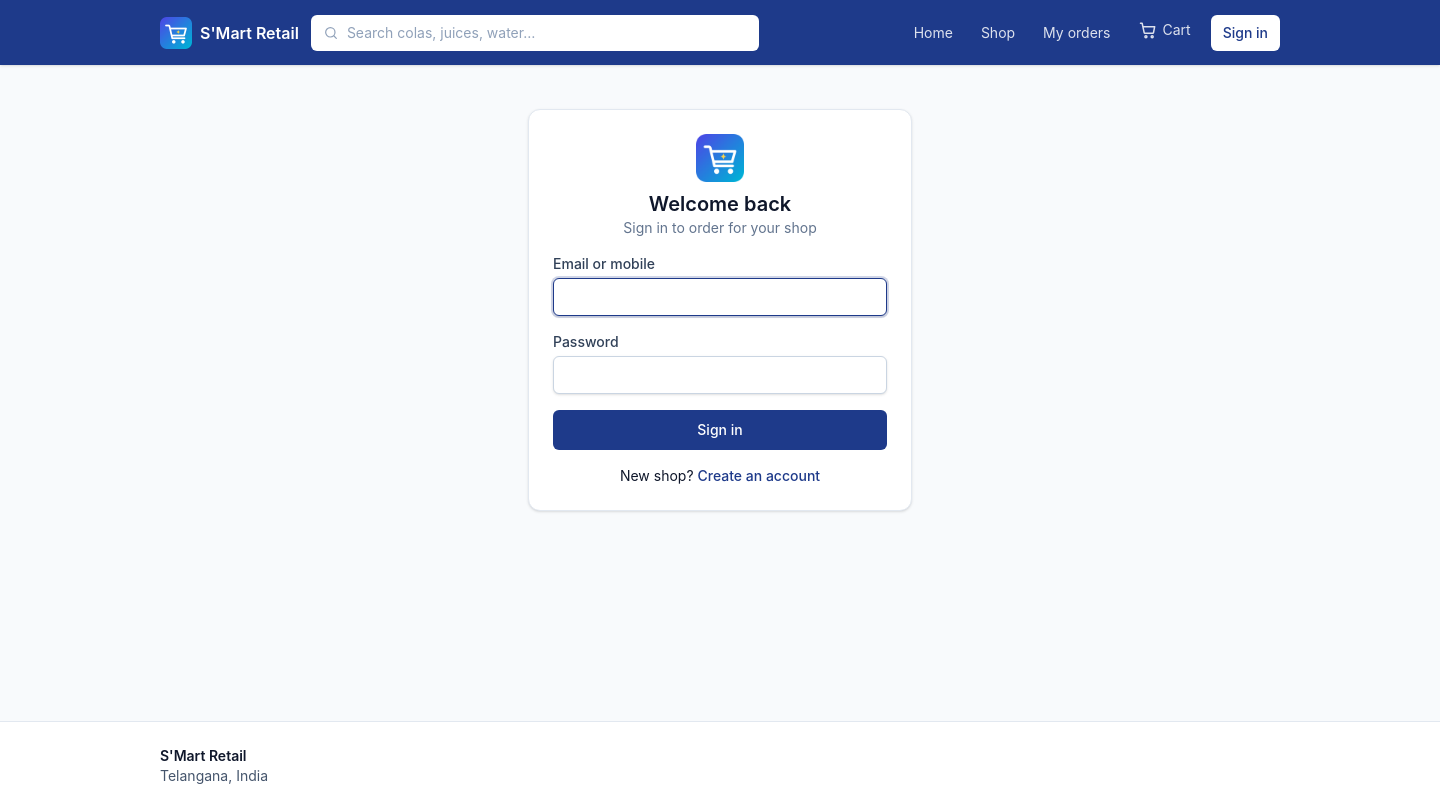
Scenario: shop profile › shows the delivery route and next delivery day on the profile
The image size is (1440, 810).
In the field labelled "Email or mobile": [720, 297] box [553,278,887,316], type "9876543210"
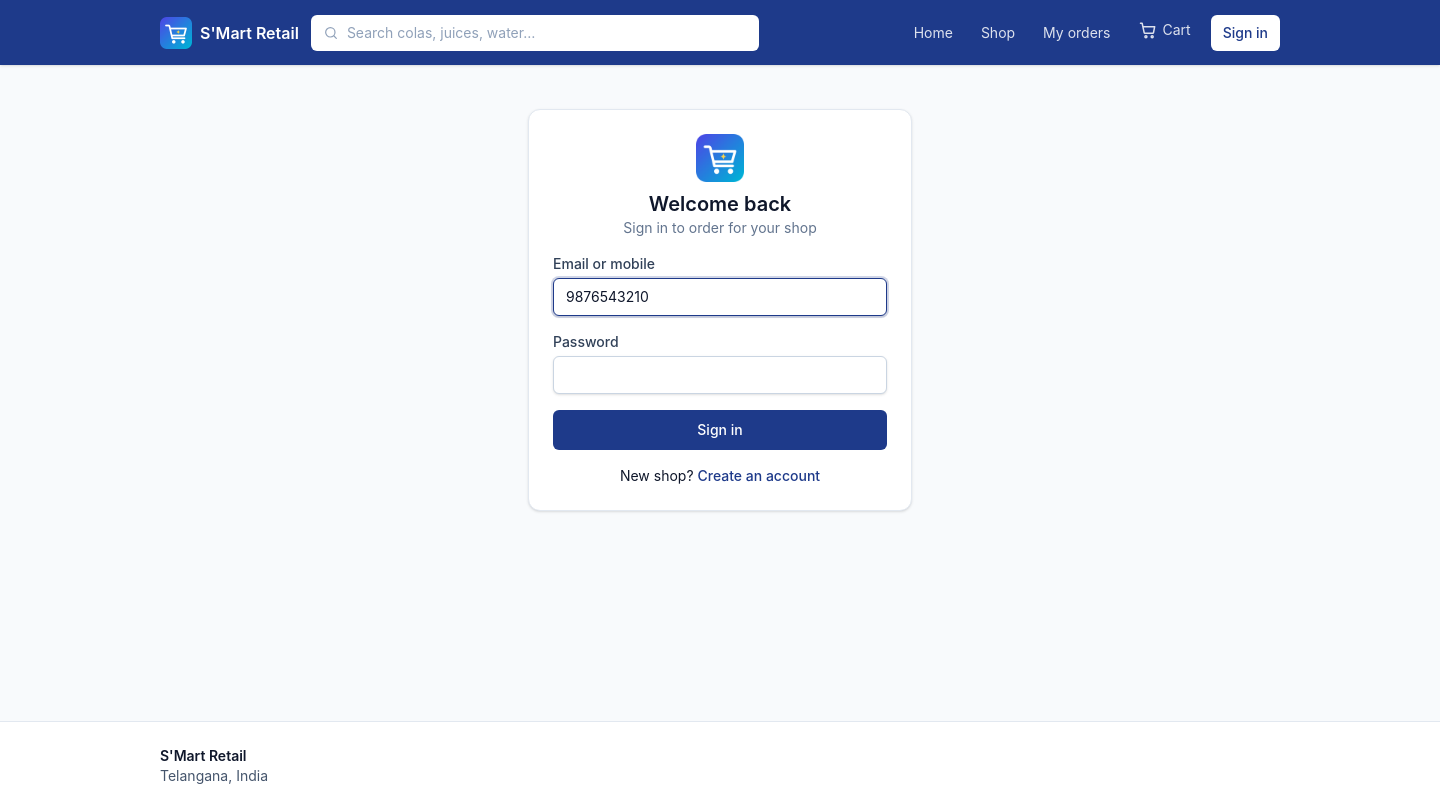
In the password field labelled "Password": [720, 375] box [553,356,887,394], type "secret123"
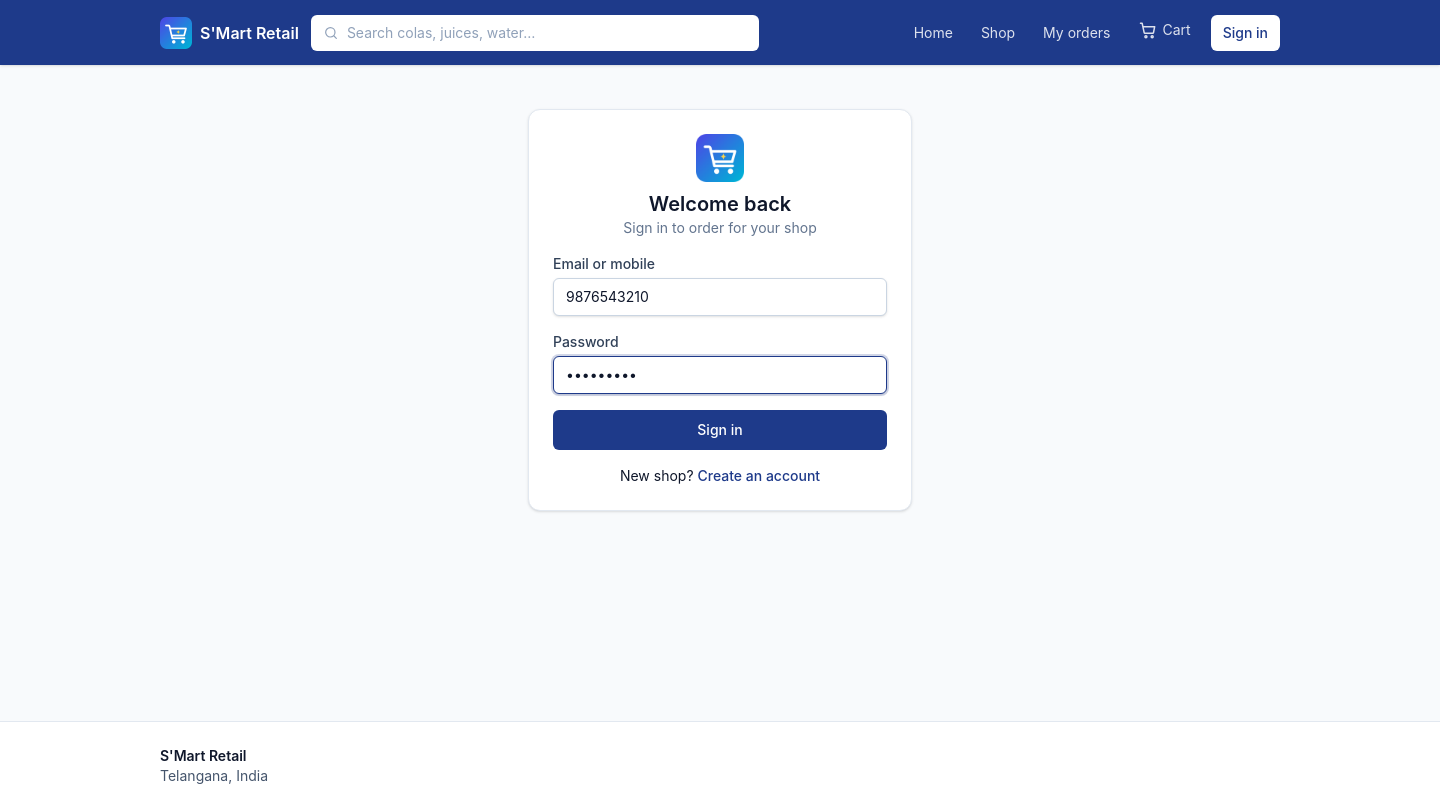
Click the button "Sign in": [720, 430] box [553,410,887,450]
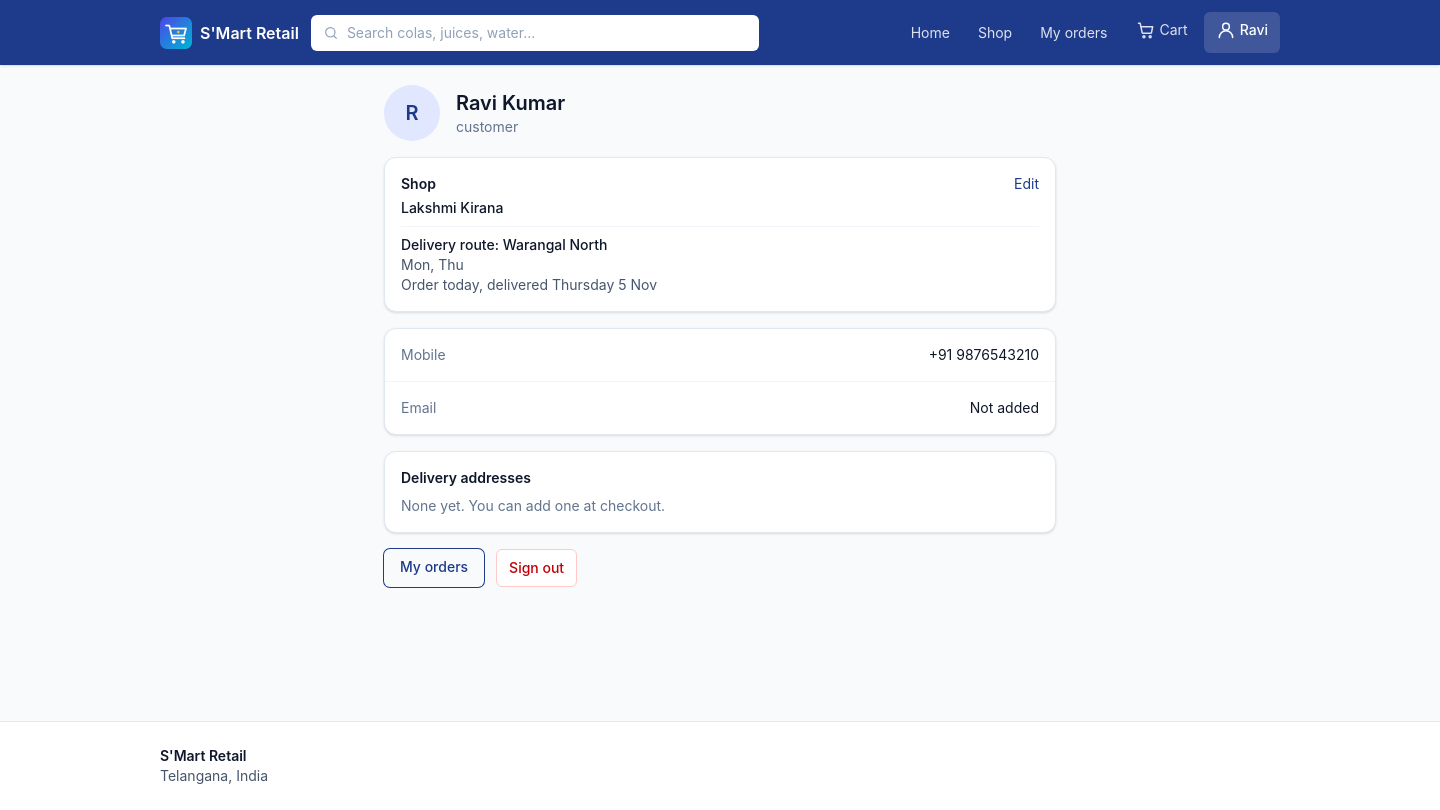
Result: the text "Delivery route: Warangal North" is shown at [401,236,607,253]
Result: the text "Mon, Thu" is shown at [401,256,464,273]
Result: the text "Order today, delivered Thursday 5 Nov" is shown at [401,276,657,293]
